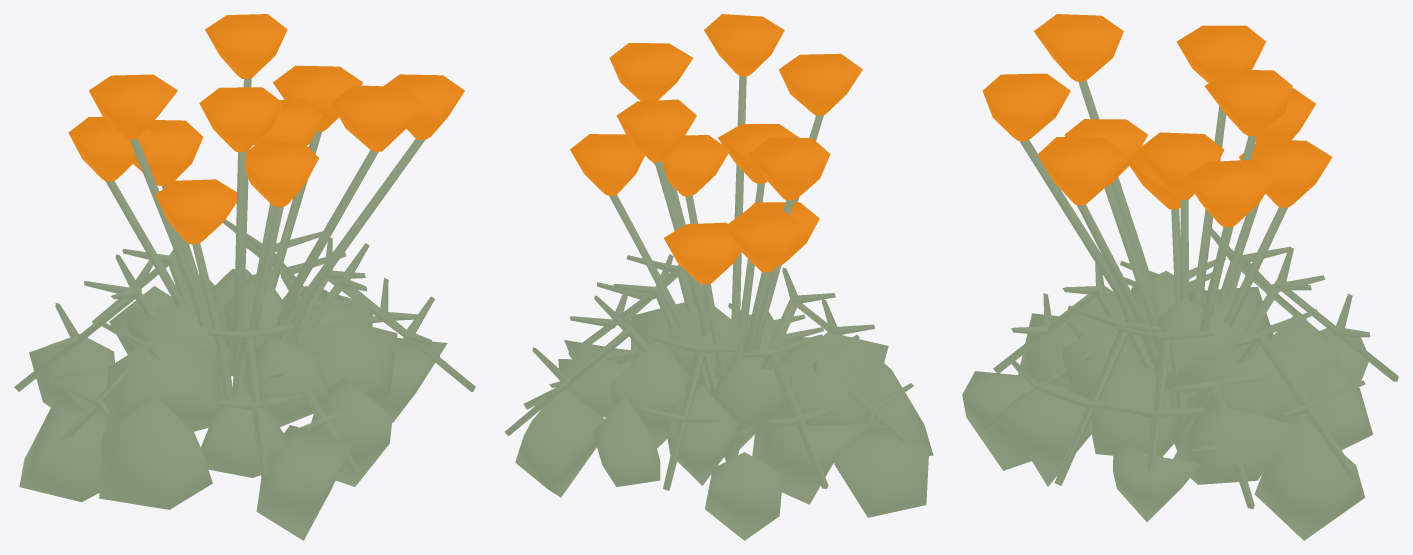
File: Blender_CaliforniaPoppy_1.glb
3 views of the same model, side by side, from view 1: azimuth 30°, elevation 25°; view 2: azimuth 150°, elevation 25°; view 3: azimuth 270°, elevation 25° (orthographic). The views are drawn at different scales.
Parts seen in each view (by area): view 1: Blender_CaliforniaPoppy_1; view 2: Blender_CaliforniaPoppy_1; view 3: Blender_CaliforniaPoppy_1.
Part boxes in pixels (bbox=[...]): Blender_CaliforniaPoppy_1: bbox=[14, 14, 475, 540]; Blender_CaliforniaPoppy_1: bbox=[504, 14, 933, 540]; Blender_CaliforniaPoppy_1: bbox=[962, 14, 1398, 540].
Size of the model in its own units: 0.3249 by 0.3178 by 0.2945.
